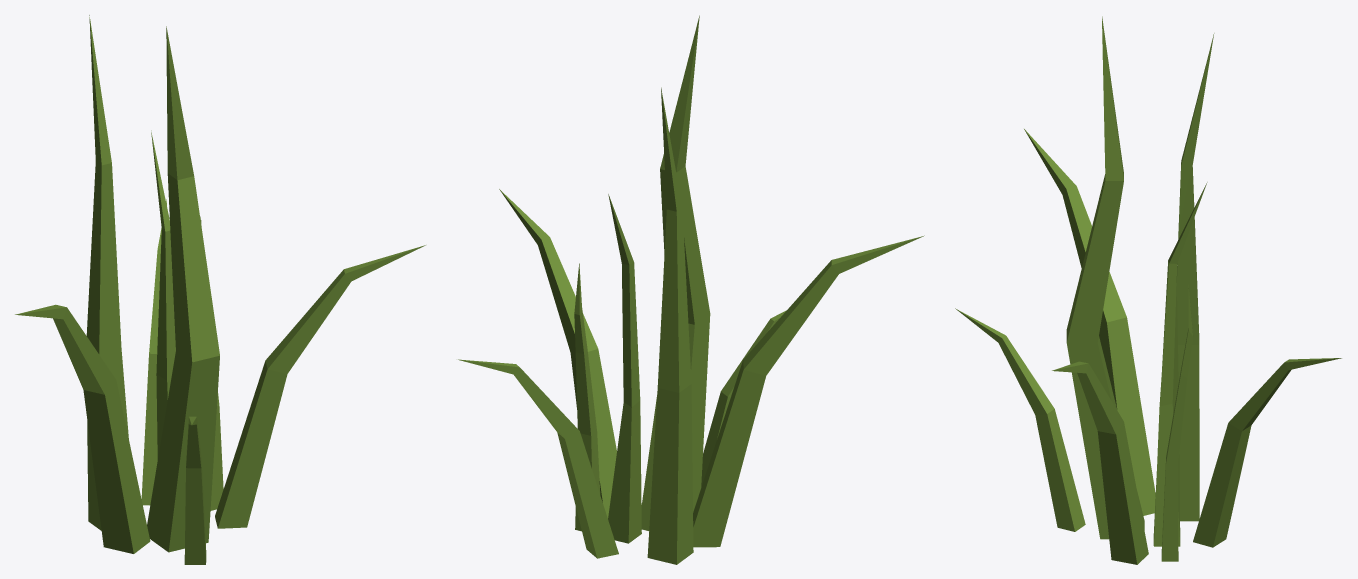
Rendered from Grass_09.fbx.
The picture shows the model from 3 angles, left to right: view 1: azimuth 30°, elevation 25°; view 2: azimuth 150°, elevation 25°; view 3: azimuth 270°, elevation 25°; orthographic projection. The views are drawn at different scales.
Parts seen in each view (by area): view 1: Grass_09; view 2: Grass_09; view 3: Grass_09.
Part boxes in pixels (left/top/right/bottom): Grass_09: left=15, top=15, right=425, bottom=564; Grass_09: left=458, top=15, right=924, bottom=564; Grass_09: left=955, top=16, right=1341, bottom=564.
Size of the model in its own units: 53.75 by 63.26 by 44.11.
